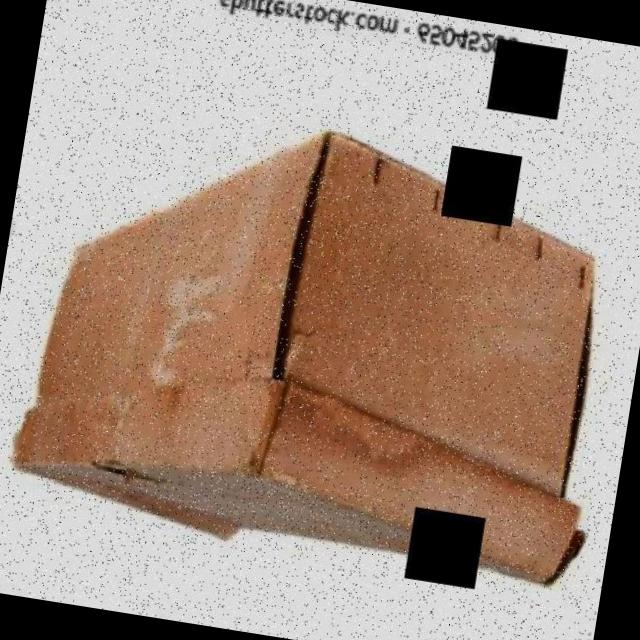box: (0, 85, 637, 610)
